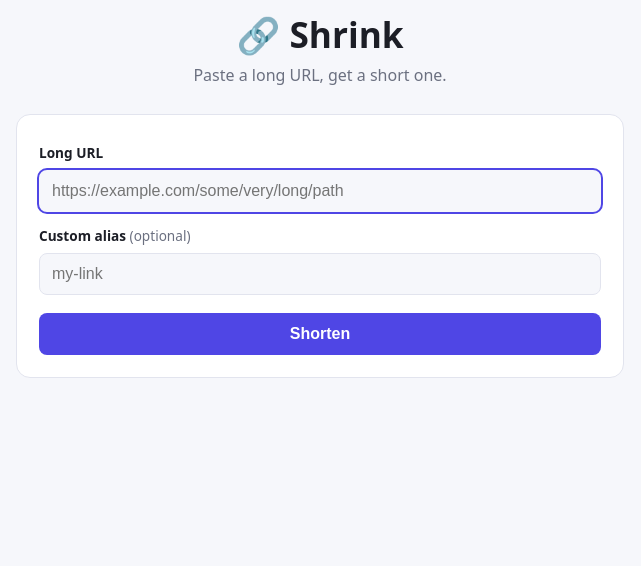
Test case: App › shortens a URL and shows it in the list
The width and height of the screenshot is (641, 566).
Type "https://example.com/long" into the field labelled "Long URL". click: (320, 191)
box: [39, 170, 601, 212]
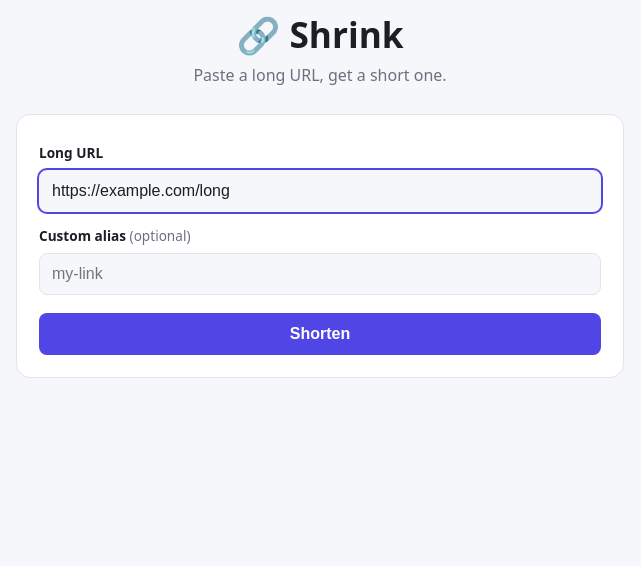
Click the button "Shorten". click: (320, 334)
box: [39, 313, 601, 355]
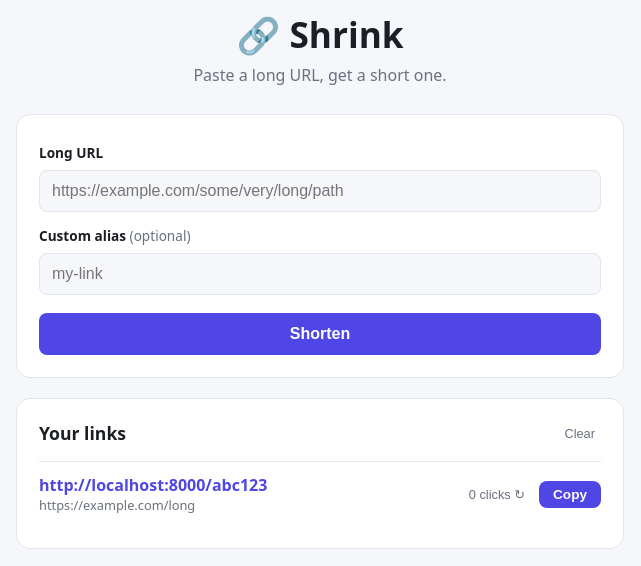
Expected: the link "http://localhost:8000/abc123" is shown, [39, 474, 267, 496]
